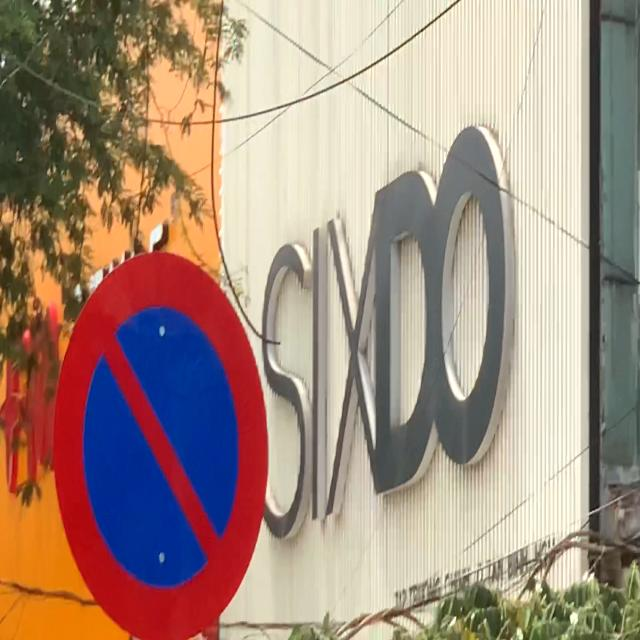P.131a: (50, 252, 273, 640)
